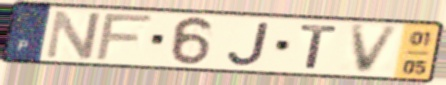6: (169, 14, 216, 68)
F: (92, 13, 157, 62)
J: (225, 20, 273, 67)
N: (41, 8, 105, 62)
T: (298, 24, 341, 71)
V: (348, 24, 404, 76)
